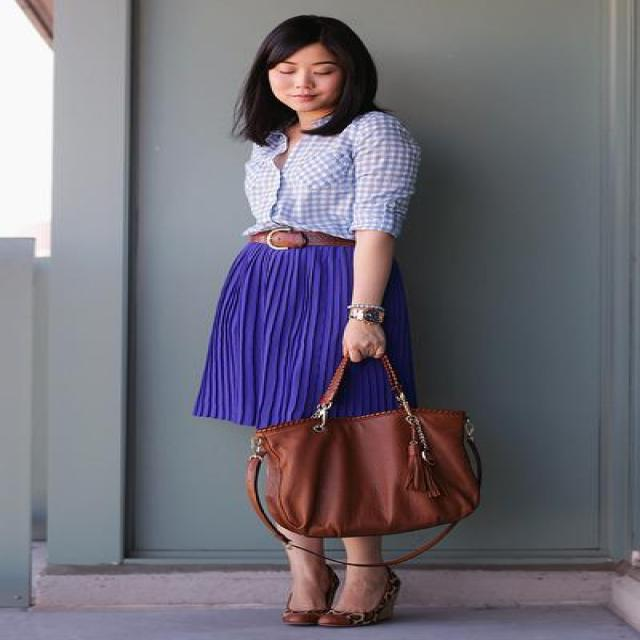bag: (221, 371, 480, 543)
shirt: (235, 112, 411, 238)
shoe: (282, 577, 406, 627)
skirt: (194, 242, 420, 429)
